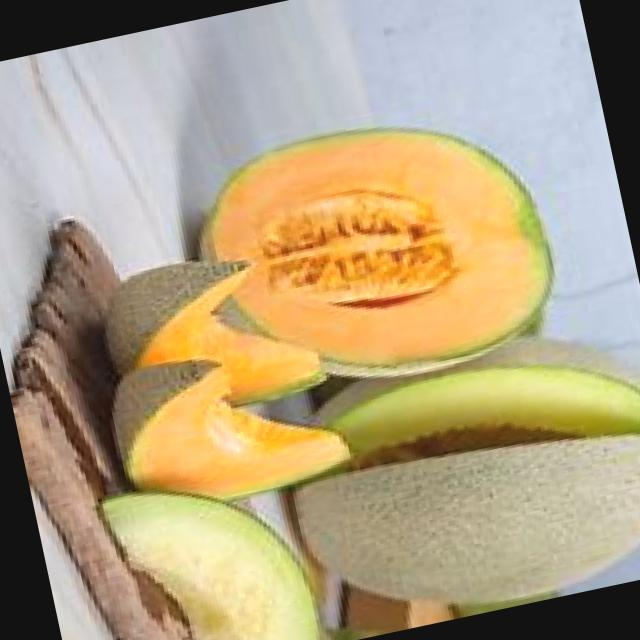cantaloupe: (177, 96, 567, 414), (101, 332, 356, 524), (90, 238, 325, 431)
